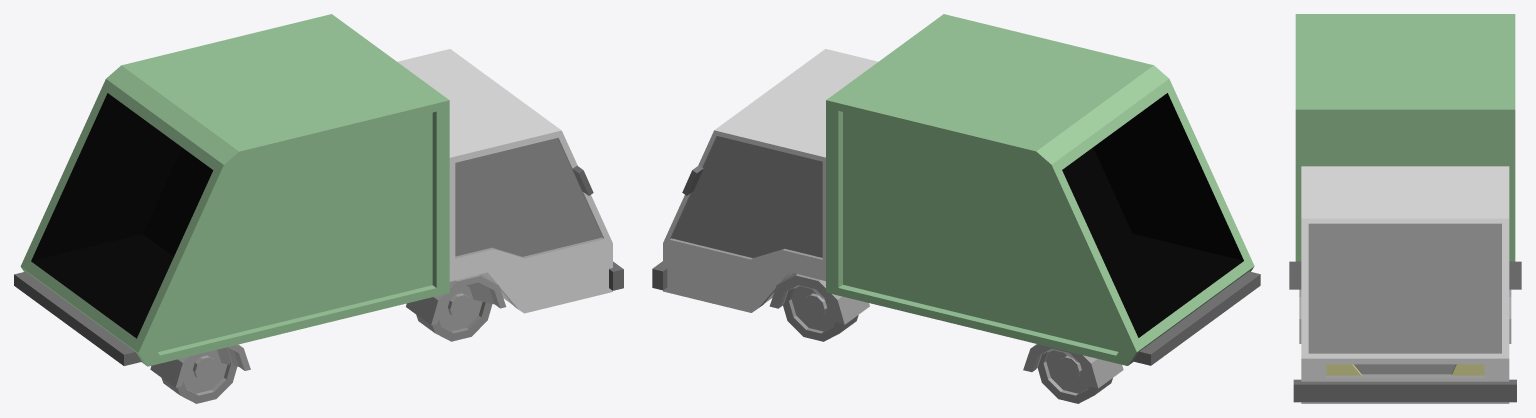
File: CamionPoubelle.fbx
3 renders of one model, left to right at view 1: azimuth 30°, elevation 25°; view 2: azimuth 150°, elevation 25°; view 3: azimuth 270°, elevation 25°, orthographic. The views are drawn at different scales.
Parts seen in each view (by area): view 1: Calandre1; view 2: Calandre1; view 3: Calandre1.
Part boxes in pixels (x1,y1,x2,y2): Calandre1: (14, 14, 623, 403); Calandre1: (652, 14, 1260, 403); Calandre1: (1289, 14, 1521, 403).
Bounding box in the file's own units: 7.29 × 3.54 × 3.18.
